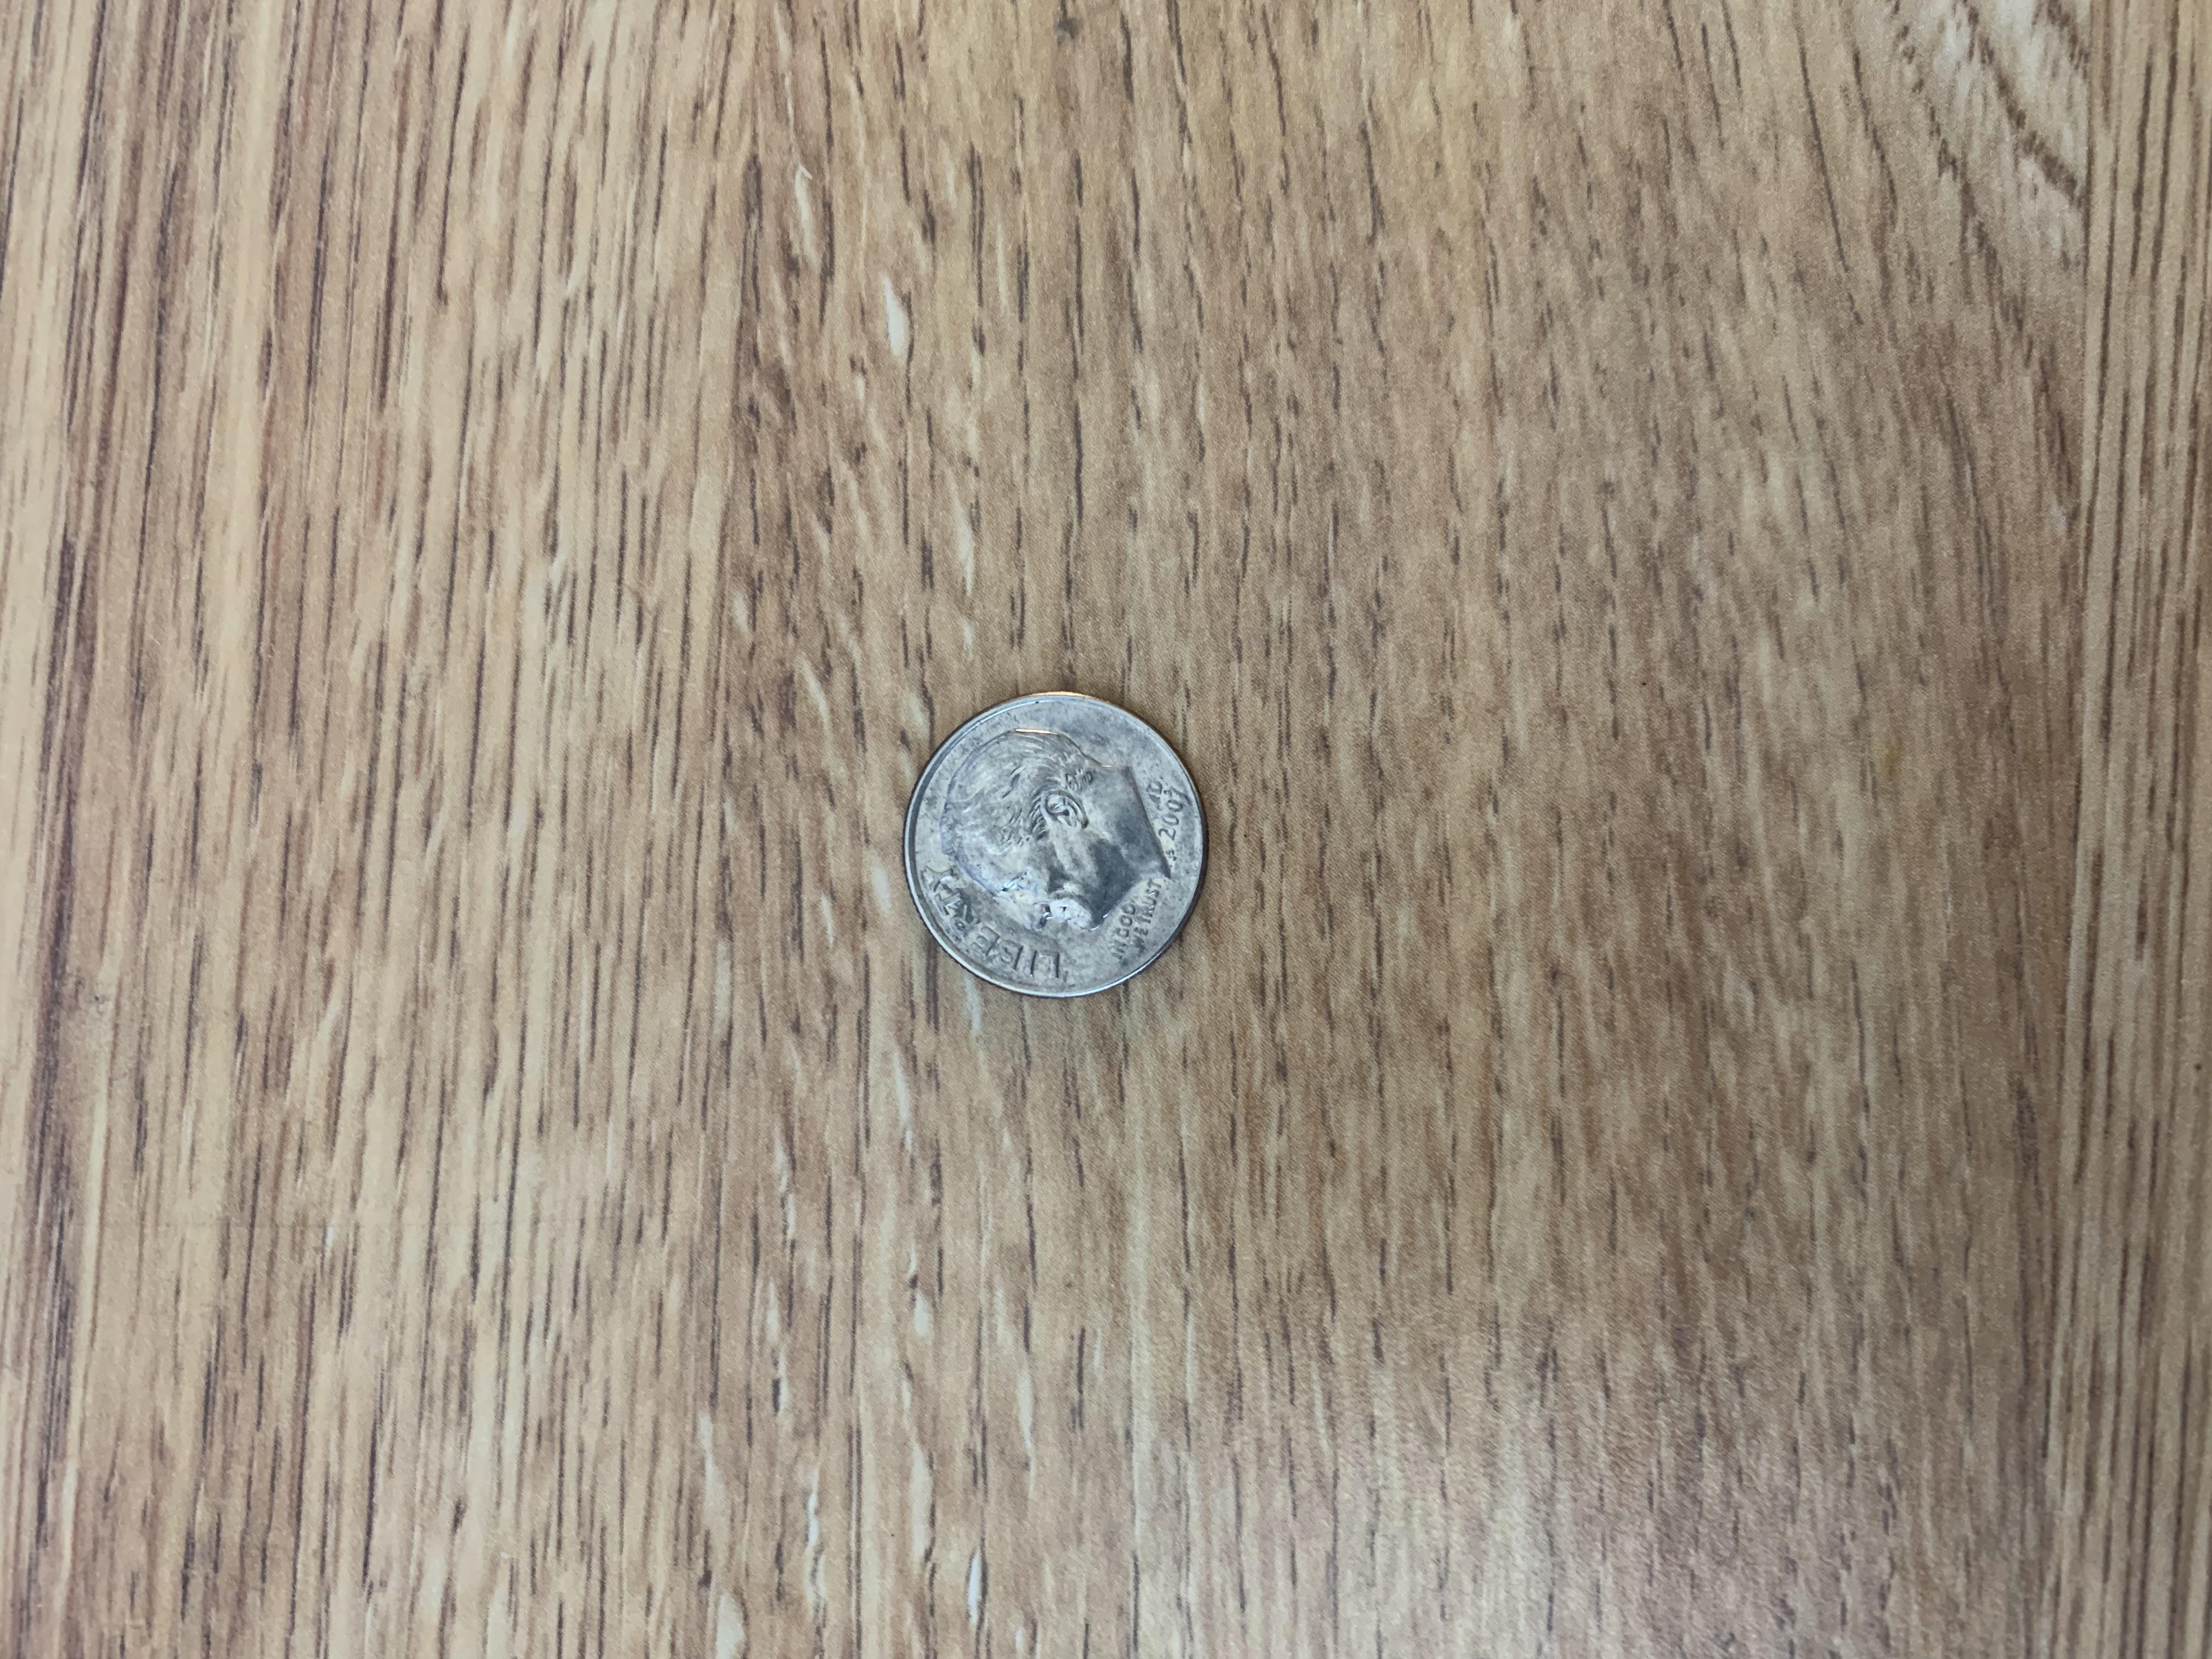Dime: (894, 680, 1224, 1007)
